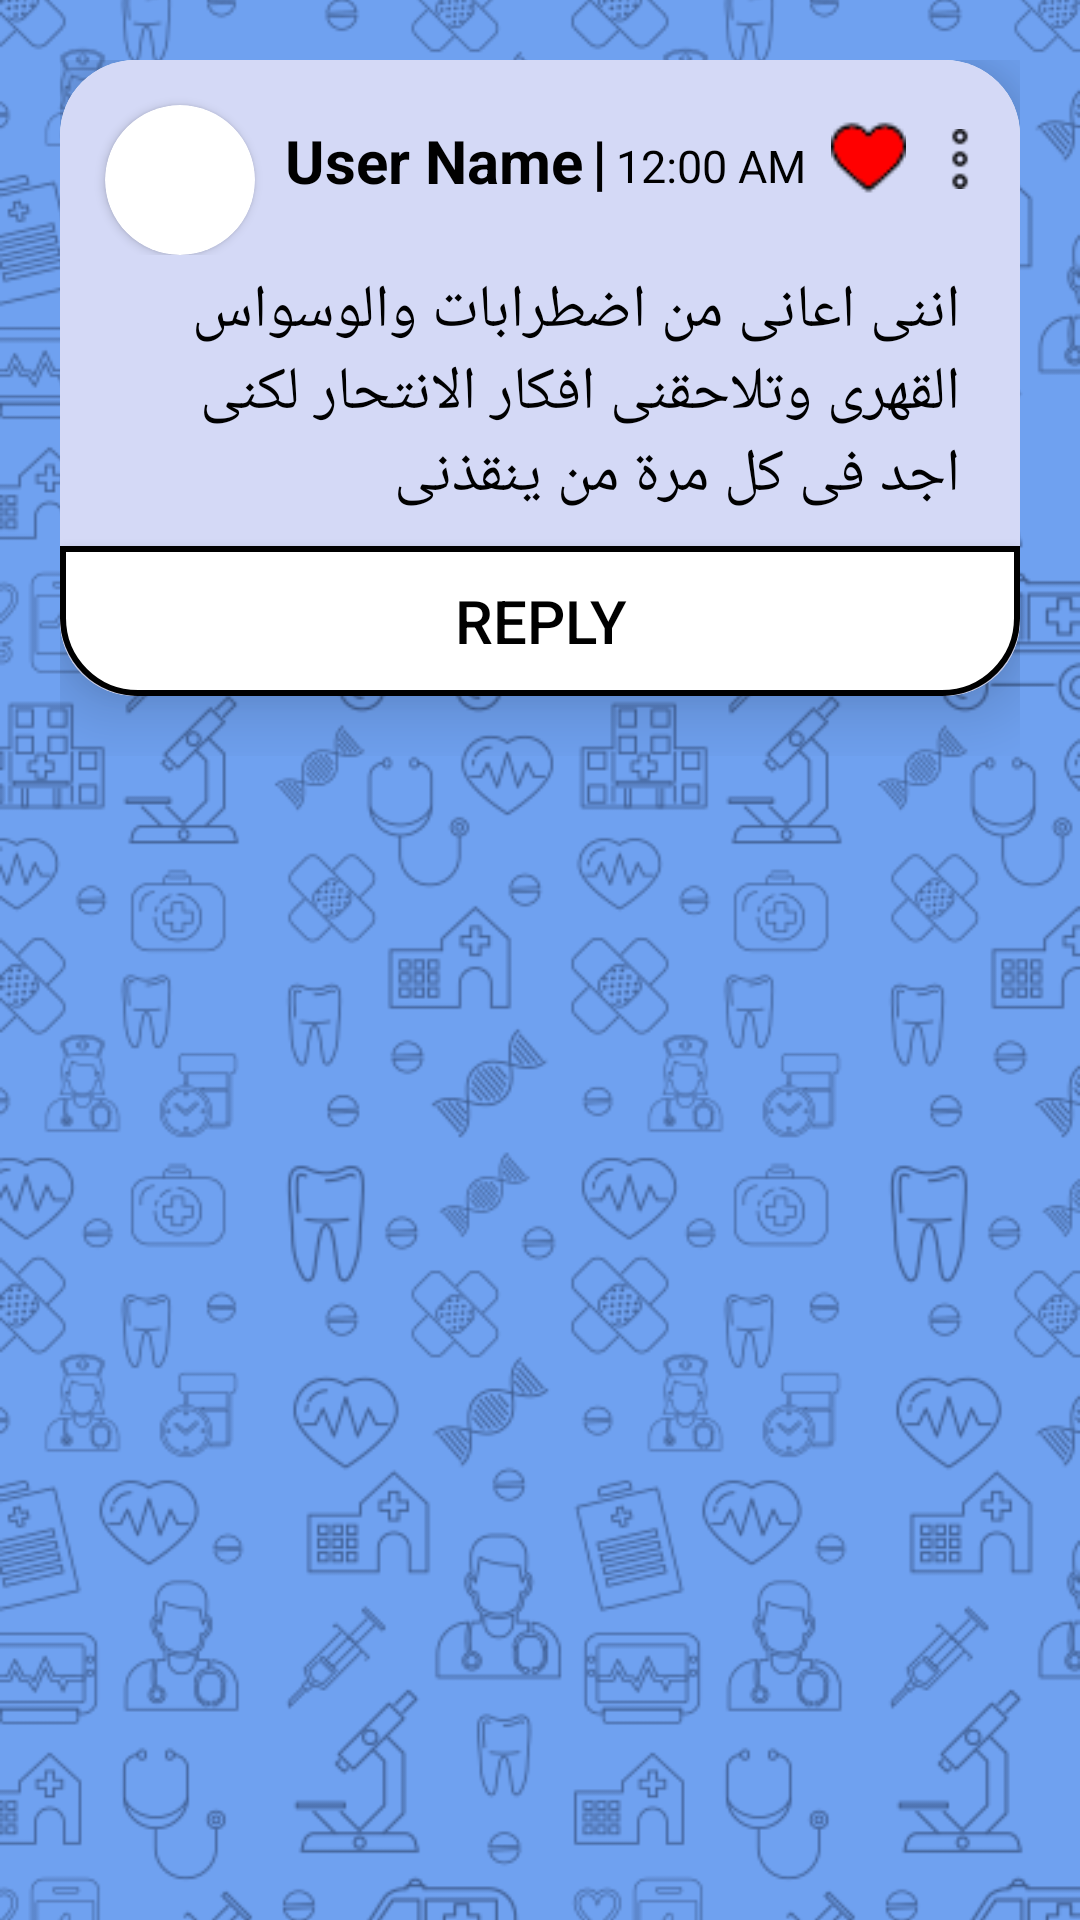

Where icons sit on this 1080*1920 app screen, as BBox(x1, y1, x2, y2):
heart: BBox(831, 122, 906, 193)
more: BBox(952, 129, 968, 189)
